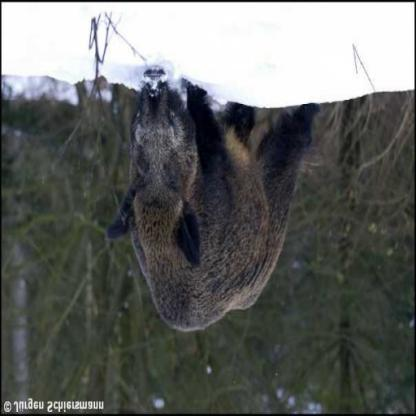boar: (94, 81, 352, 363)
